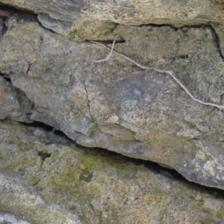Crack: (40, 160, 197, 202), (162, 64, 224, 108)
